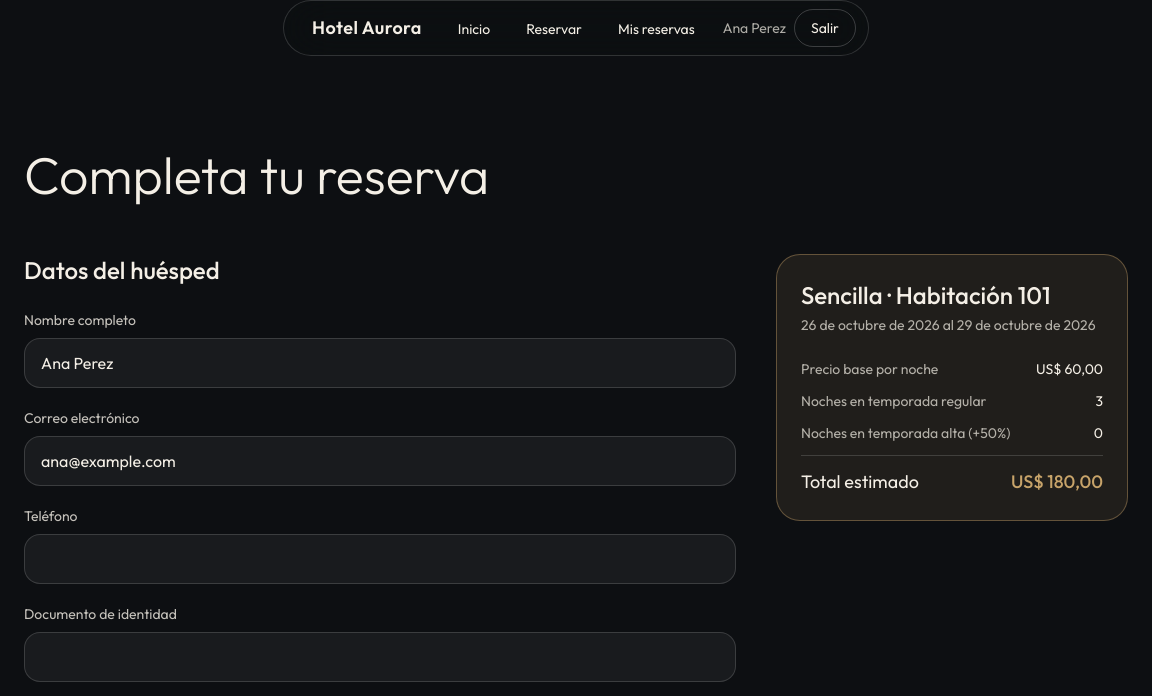
Test: Booking page › shows the room, prefilled guest data and creates the reservation
The width and height of the screenshot is (1152, 696).
Expected: the element named "Resumen de precio" is shown, [776, 254, 1128, 521]
Expected: the field labelled "Nombre completo" holds "Ana Perez", [24, 338, 736, 388]
In the field labelled "Teléfono": x=380, y=559 [24, 534, 736, 584], type "3001234567"
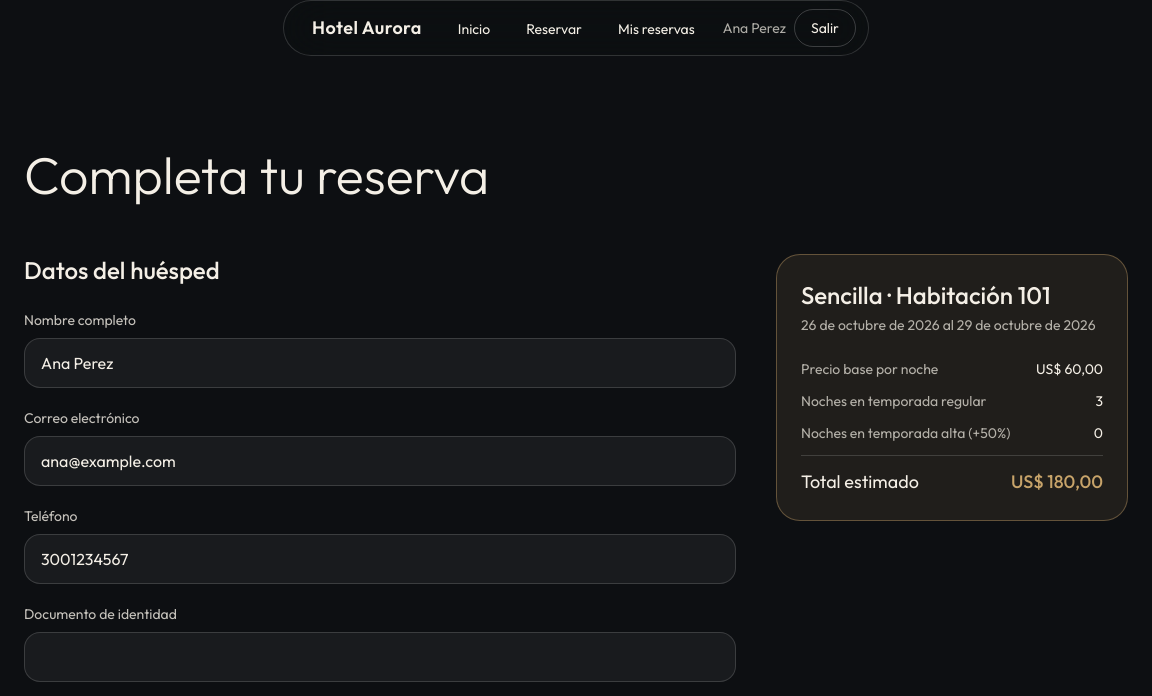
In the field labelled "Documento de identidad": x=380, y=657 [24, 632, 736, 682], type "10203040"
(page scrolled)
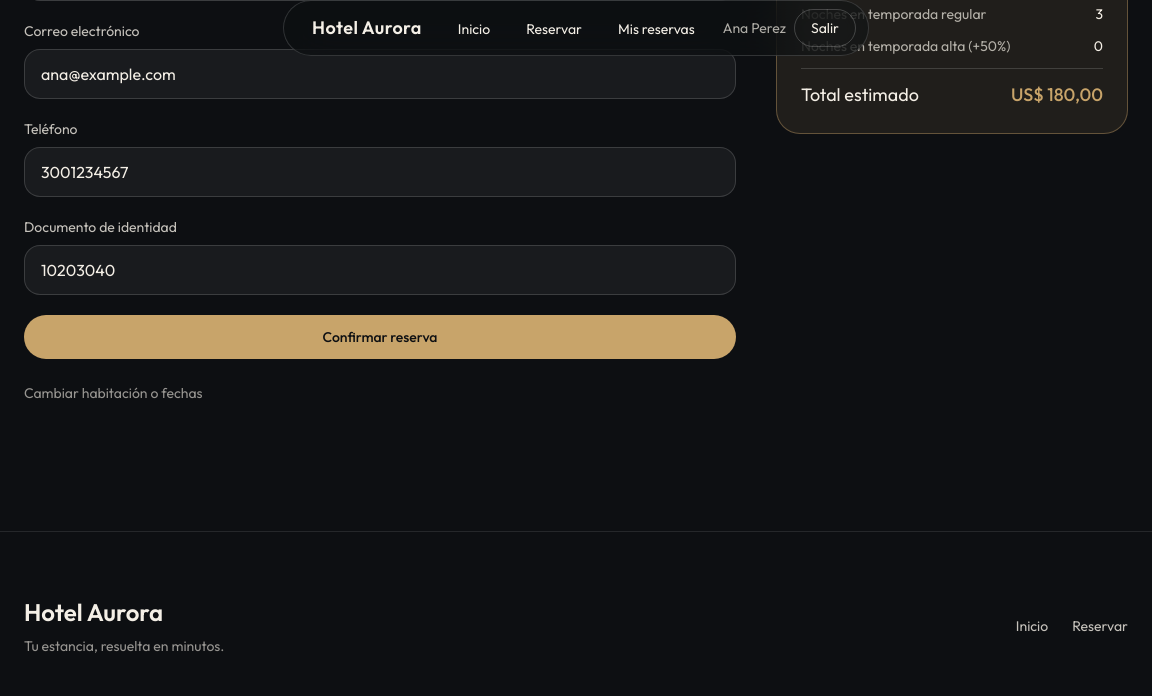
Click the button "Confirmar reserva": x=380, y=337 [24, 315, 736, 359]
(page scrolled)
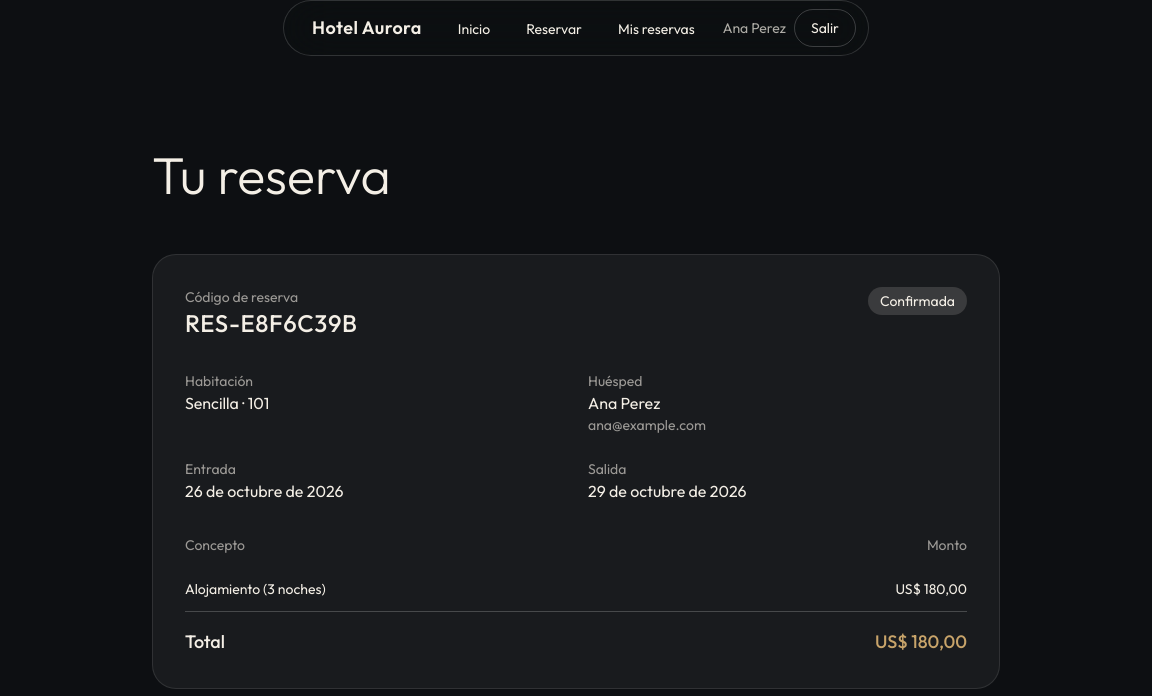
Result: the heading reads "Tu reserva" at [152, 142, 391, 207]
